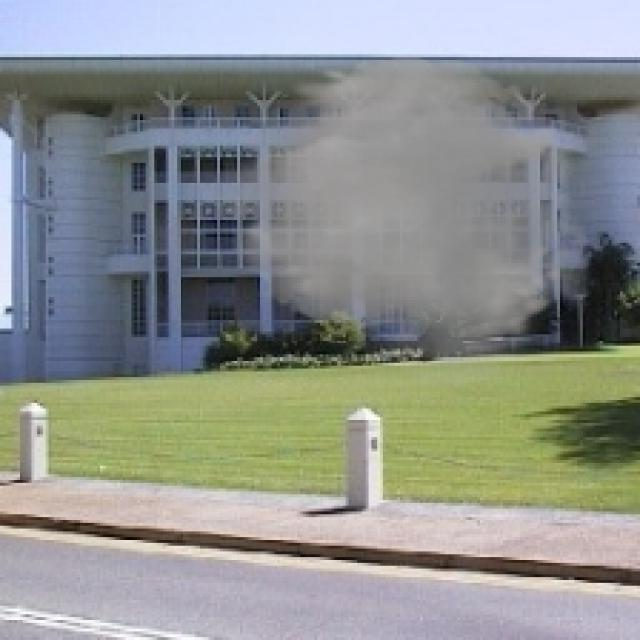Smoke: (188, 49, 608, 392)
